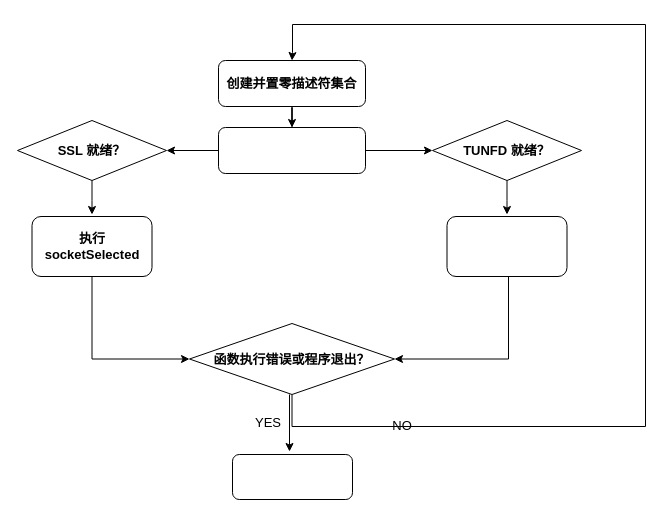
Image size: 671x517. Some labels were removed from this diagram. Here are the shapes that lost their labels. From the top down, the centre of each, then its label:
the point at 292,150: 添加SSL, TUNFD
the point at 506,246: 执行 tunSelected
the point at 292,477: 关闭连接和释放
